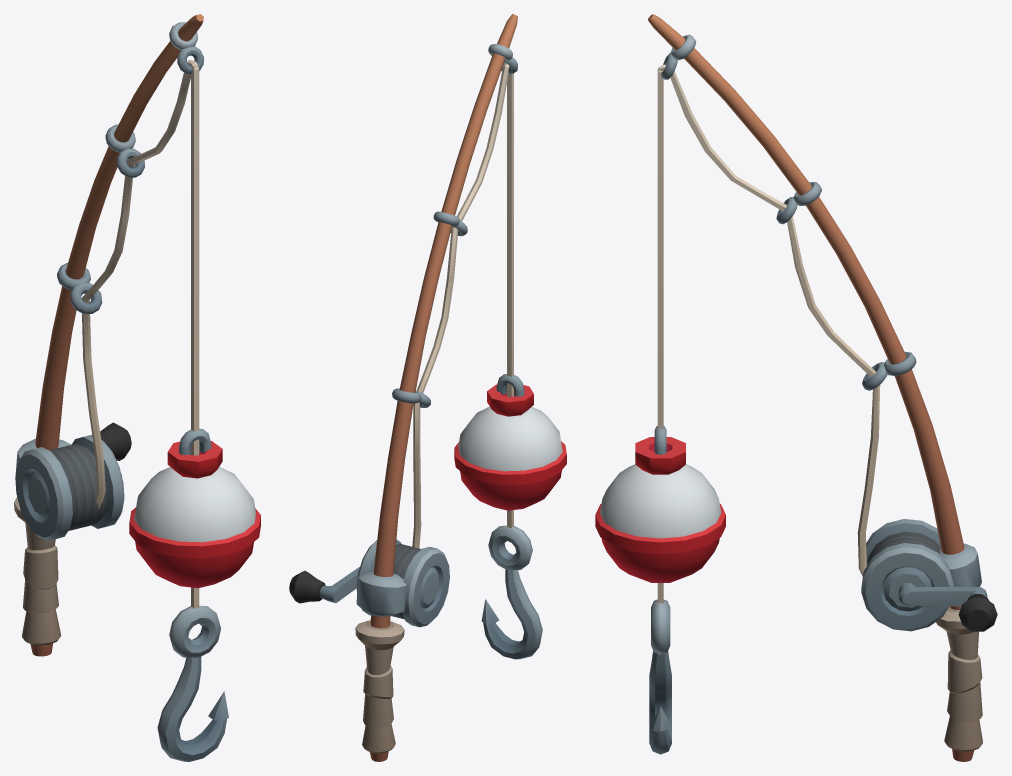
The model's file is prop_fishing_rod.glb.
3 renders of one model, left to right at view 1: azimuth 30°, elevation 25°; view 2: azimuth 150°, elevation 25°; view 3: azimuth 270°, elevation 25°, orthographic. The views are drawn at different scales.
Parts seen in each view (by area): view 1: fishing_rod, fishing_rod_floater, fishing_rod_hook, fishing_rod_line, fishing_rod_reelhandle; view 2: fishing_rod, fishing_rod_floater, fishing_rod_hook, fishing_rod_line, fishing_rod_reelhandle; view 3: fishing_rod, fishing_rod_floater, fishing_rod_hook, fishing_rod_line, fishing_rod_reelhandle.
Part boxes in pixels (left/top/right/bottom): fishing_rod: left=14, top=14, right=203, bottom=656; fishing_rod_floater: left=129, top=428, right=260, bottom=588; fishing_rod_hook: left=157, top=605, right=228, bottom=761; fishing_rod_line: left=191, top=66, right=199, bottom=608; fishing_rod_reelhandle: left=100, top=422, right=131, bottom=475; fishing_rod: left=355, top=14, right=517, bottom=761; fishing_rod_floater: left=454, top=374, right=566, bottom=510; fishing_rod_hook: left=481, top=525, right=542, bottom=659; fishing_rod_line: left=507, top=73, right=513, bottom=528; fishing_rod_reelhandle: left=289, top=567, right=359, bottom=603; fishing_rod: left=648, top=14, right=982, bottom=761; fishing_rod_floater: left=595, top=426, right=725, bottom=582; fishing_rod_hook: left=649, top=599, right=671, bottom=754; fishing_rod_line: left=657, top=68, right=663, bottom=603; fishing_rod_reelhandle: left=898, top=583, right=997, bottom=631.
Bounding box in the file's own units: 0.5383 × 2.61 × 1.27.
1 material, 1 textured.
